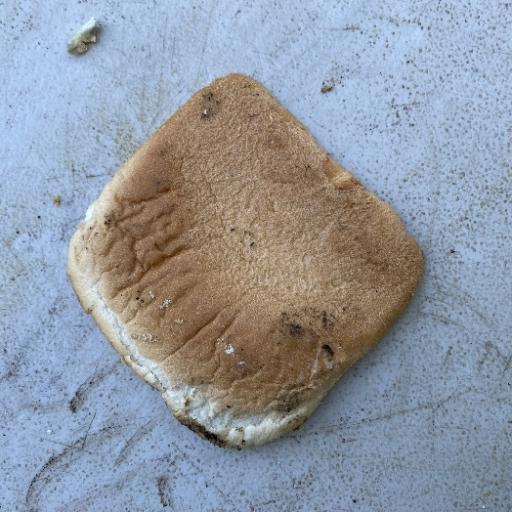Waste: (65, 72, 426, 450)
